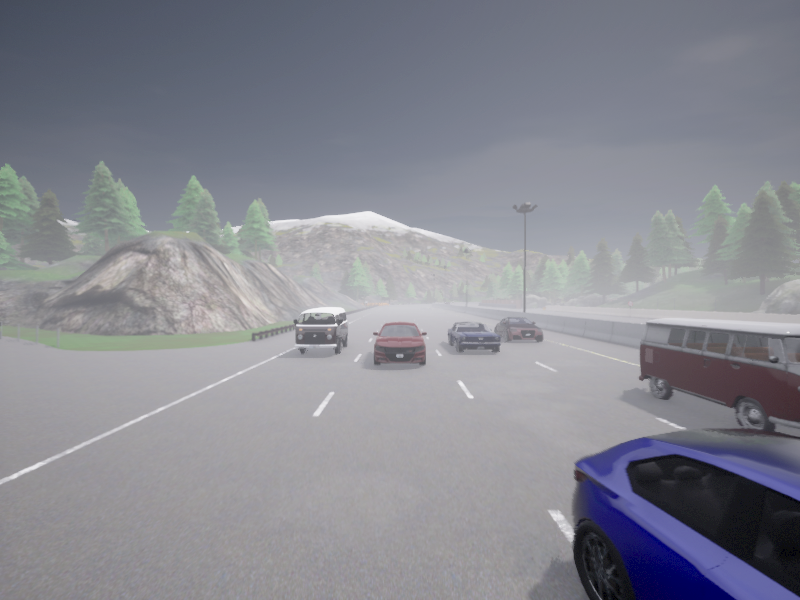vehicle: (571, 428, 799, 599), (639, 318, 799, 431), (294, 307, 348, 354), (373, 321, 426, 365), (447, 321, 500, 352), (494, 317, 543, 341), (446, 302, 451, 304)
